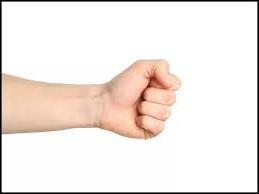Left-Fist: (84, 54, 183, 140)
